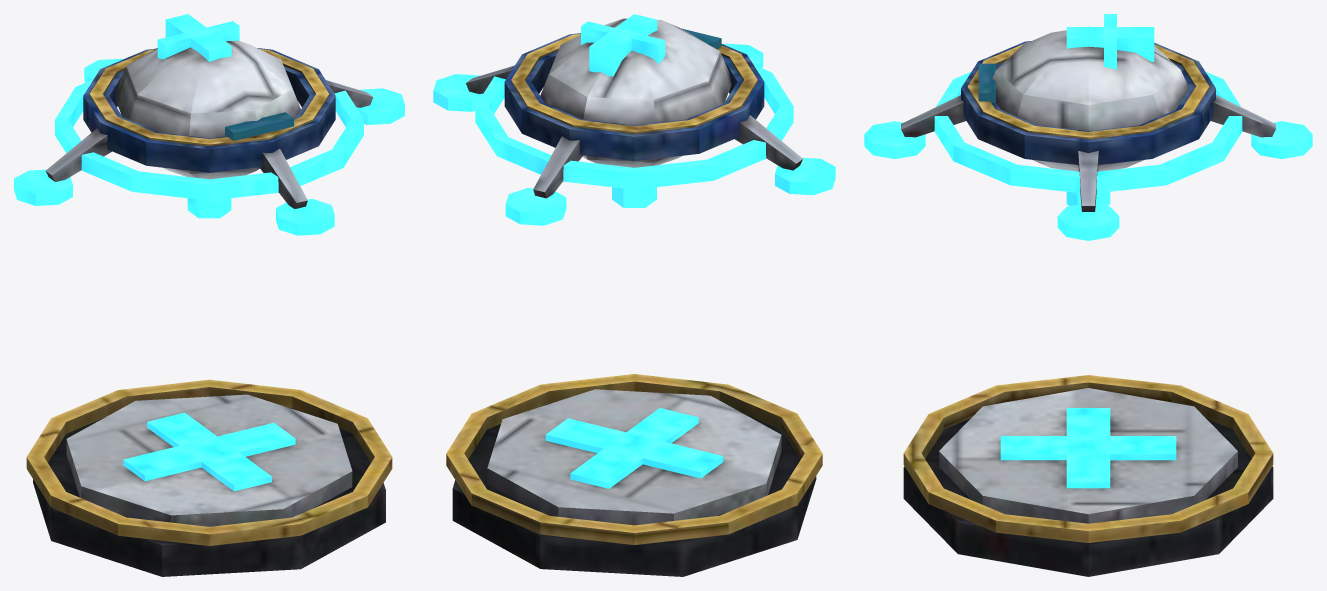
Rendered from u_medic3_w.glb.
3 renders of one model, left to right at view 1: azimuth 30°, elevation 25°; view 2: azimuth 150°, elevation 25°; view 3: azimuth 270°, elevation 25°, orthographic. The views are drawn at different scales.
Visible parts, largest first — view 1: u_medic3_w; view 2: u_medic3_w; view 3: u_medic3_w.
Boxes of the visible parts, left/top/right/bottom form: u_medic3_w: left=14, top=14, right=404, bottom=576; u_medic3_w: left=433, top=14, right=835, bottom=576; u_medic3_w: left=864, top=14, right=1312, bottom=576.
Bounding box in the file's own units: 1.18 × 1.36 × 1.18.
Materials: 1 (1 with a texture image).
